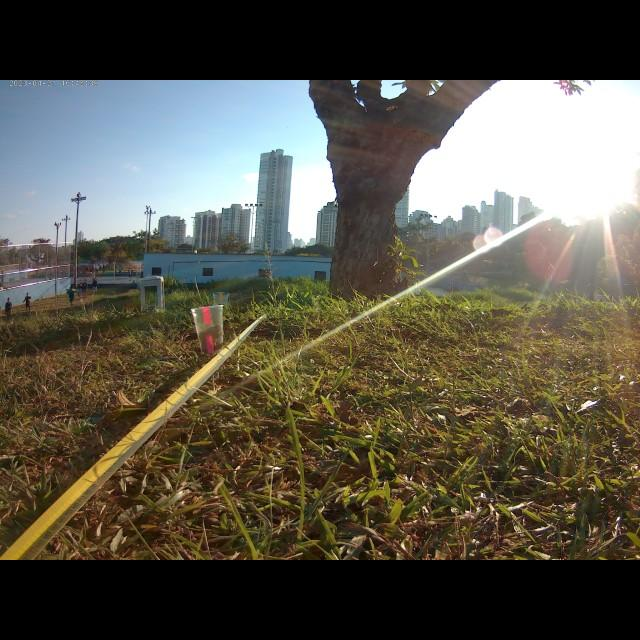arvore: (304, 80, 502, 304)
